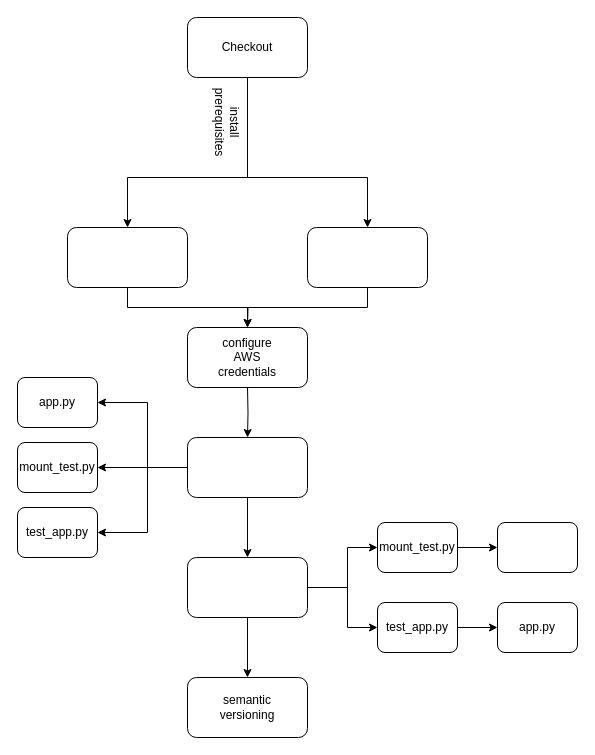
Image size: 595x755. Some labels were removed from this diagram. Each missing label, with the centre of its shape:
"mount.sh" goes at (x=537, y=547).
"python" goes at (x=127, y=257).
"python packages" goes at (x=367, y=257).
"run flake8 linter" goes at (x=247, y=467).
"run pytest" goes at (x=247, y=587).
